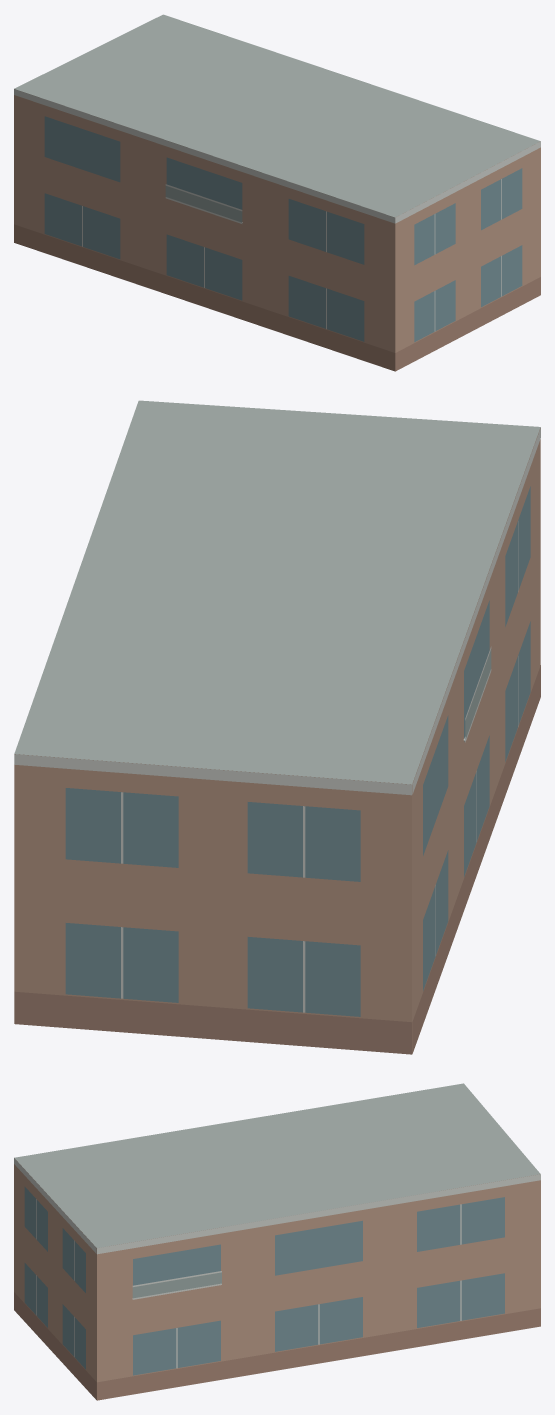
The model's file is survey-upis-32772868.glb.
3 renders of one model, top to bottom at view 1: azimuth 30°, elevation 25°; view 2: azimuth 150°, elevation 25°; view 3: azimuth 270°, elevation 25°, orthographic. The views are drawn at different scales.
Visible parts, largest first — view 1: survey-upis-32772868.tmp; view 2: survey-upis-32772868.tmp; view 3: survey-upis-32772868.tmp.
Boxes of the visible parts, left/top/right/bottom form: survey-upis-32772868.tmp: left=14, top=14, right=540, bottom=371; survey-upis-32772868.tmp: left=14, top=400, right=540, bottom=1054; survey-upis-32772868.tmp: left=14, top=1083, right=540, bottom=1400.
Bounding box in the file's own units: 14.17 × 6.1 × 19.13.
